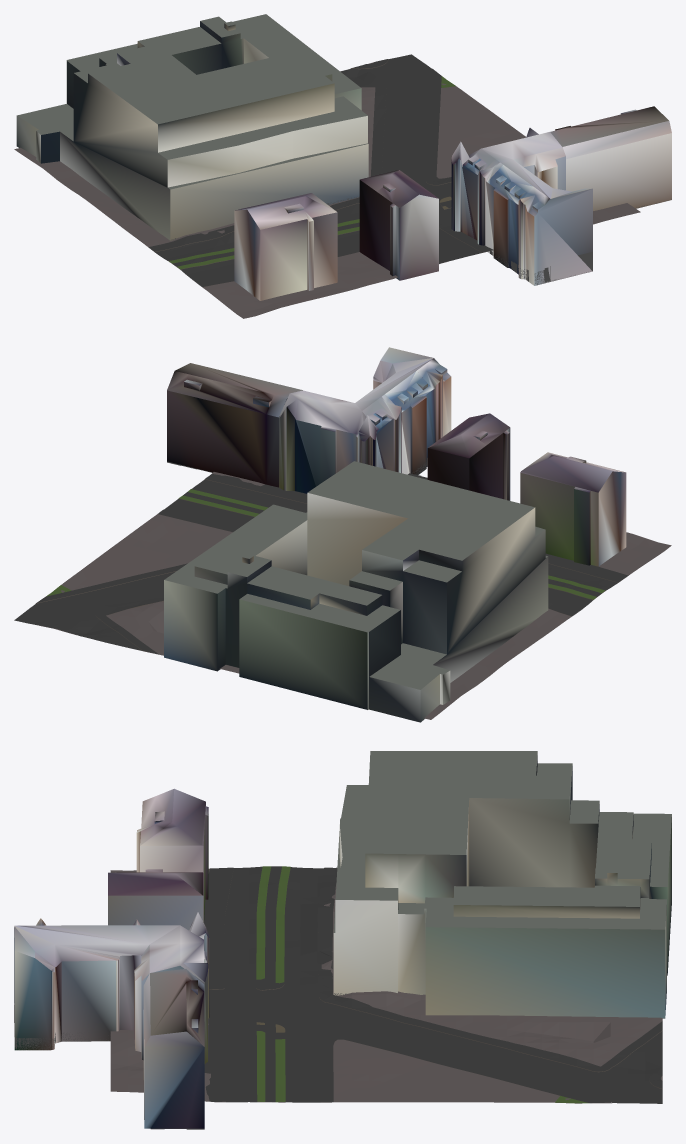
The picture shows the model from 3 angles, top to bottom: view 1: azimuth 30°, elevation 25°; view 2: azimuth 150°, elevation 25°; view 3: azimuth 270°, elevation 25°; orthographic projection. The views are drawn at different scales.
Visible parts, largest first — view 1: c_p01_m18; view 2: c_p01_m18; view 3: c_p01_m18.
Boxes of the visible parts, x1,y1,x2,y2 form: c_p01_m18: (14, 14, 671, 318); c_p01_m18: (14, 347, 671, 722); c_p01_m18: (14, 751, 671, 1129).
Bounding box in the file's own units: 142 × 36.68 × 153.
